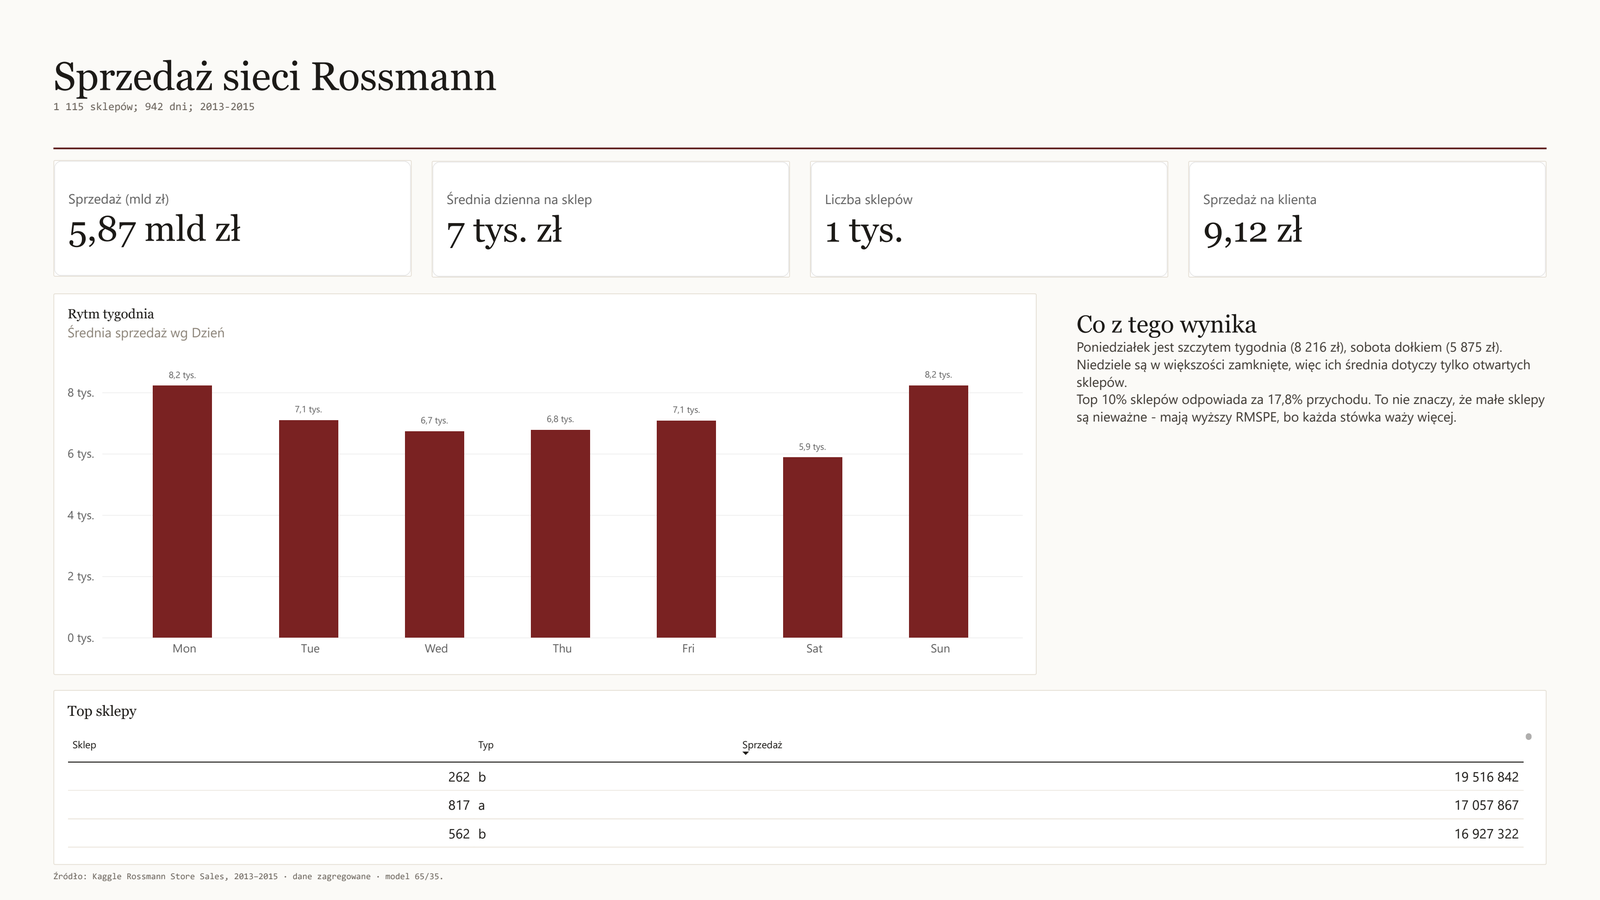

What the dashboard file says about the page in this screenshot:
{"tool":"powerbi","page":{"name":"Przegląd","canvas":[1920,1080],"ordinal":0},"visuals":[{"type":"textbox","box":[64,48,1100,104],"z":0},{"type":"textbox","box":[1400,48,456,80],"z":1000},{"type":"shape","box":[64.4,171.8,1791.2,12.3],"z":2000},{"type":"cardVisual","fields":{"Data":["_Miary.Sprzedaż (mld zł)"]},"box":[64,192,430,140],"z":3000},{"type":"cardVisual","fields":{"Data":["_Miary.Średnia dzienna na sklep"]},"box":[518,192.6,430,140],"z":4000},{"type":"cardVisual","fields":{"Data":["_Miary.Liczba sklepów"]},"box":[972,192.6,430,140],"z":5000},{"type":"textbox","box":[64,1042,1792,24],"z":6000},{"type":"cardVisual","fields":{"Data":["_Miary.Sprzedaż na klienta"]},"box":[1426,192.6,430,140],"z":7000},{"type":"columnChart","title":"Rytm tygodnia","fields":{"Category":["Fakt_DzienTygodnia.DayName"],"Y":["Avg(Fakt_DzienTygodnia.AvgSales)"]},"box":[64.2,352,1180,458],"z":8000},{"type":"textbox","box":[1272,352,584,458],"z":9000},{"type":"tableEx","title":"Top sklepy","fields":{"Values":["Fakt_Sklepy.Store","Fakt_Sklepy.StoreType","Fakt_Sklepy.TotalSales"]},"box":[64,828,1792,210],"z":10000}]}

Visuals, with their boxes in screenshot pixels (x1, y1, x2, y2), scaled from the page's 1920x1080 canvas onto the 1600x900 screenshot:
textbox: <region>53, 40, 970, 127</region>
textbox: <region>1167, 40, 1547, 107</region>
shape: <region>54, 143, 1546, 153</region>
cardVisual - _Miary.Sprzedaż (mld zł): <region>53, 160, 412, 277</region>
cardVisual - _Miary.Średnia dzienna na sklep: <region>432, 160, 790, 277</region>
cardVisual - _Miary.Liczba sklepów: <region>810, 160, 1168, 277</region>
textbox: <region>53, 868, 1547, 888</region>
cardVisual - _Miary.Sprzedaż na klienta: <region>1188, 160, 1547, 277</region>
"Rytm tygodnia" columnChart: <region>54, 293, 1037, 675</region>
textbox: <region>1060, 293, 1547, 675</region>
"Top sklepy" tableEx: <region>53, 690, 1547, 865</region>
